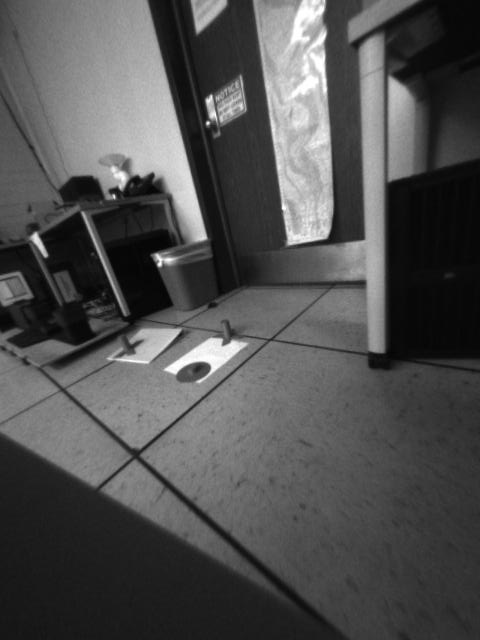X: (212, 319, 242, 346), (112, 334, 144, 357)
